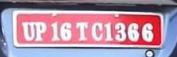1: (49, 20, 60, 42), (103, 20, 113, 41)
3: (112, 20, 127, 42)
6: (139, 20, 155, 42), (127, 20, 141, 42), (59, 20, 72, 41)
C: (90, 20, 104, 41)
P: (34, 20, 47, 41)
T: (74, 20, 90, 41)
U: (19, 20, 35, 41)
